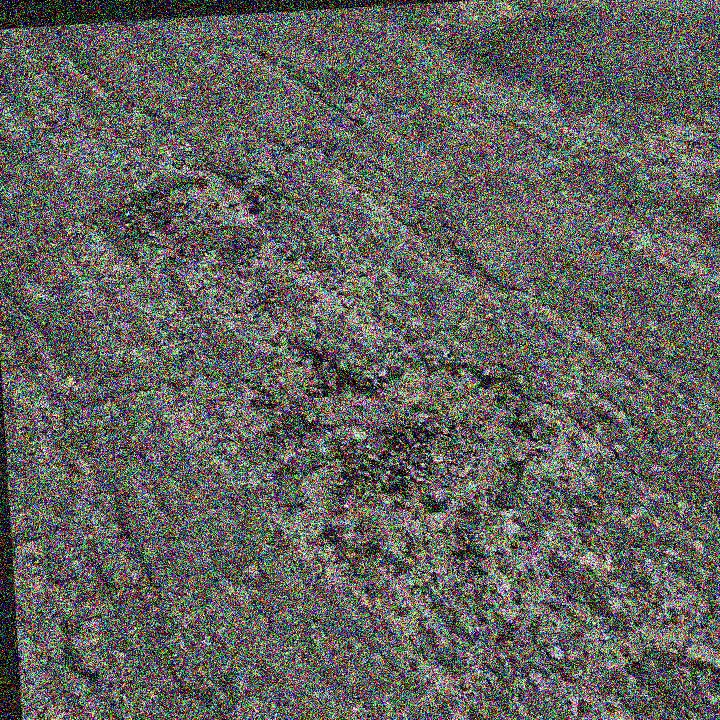pothole: (255, 326, 540, 585), (106, 159, 269, 249)
